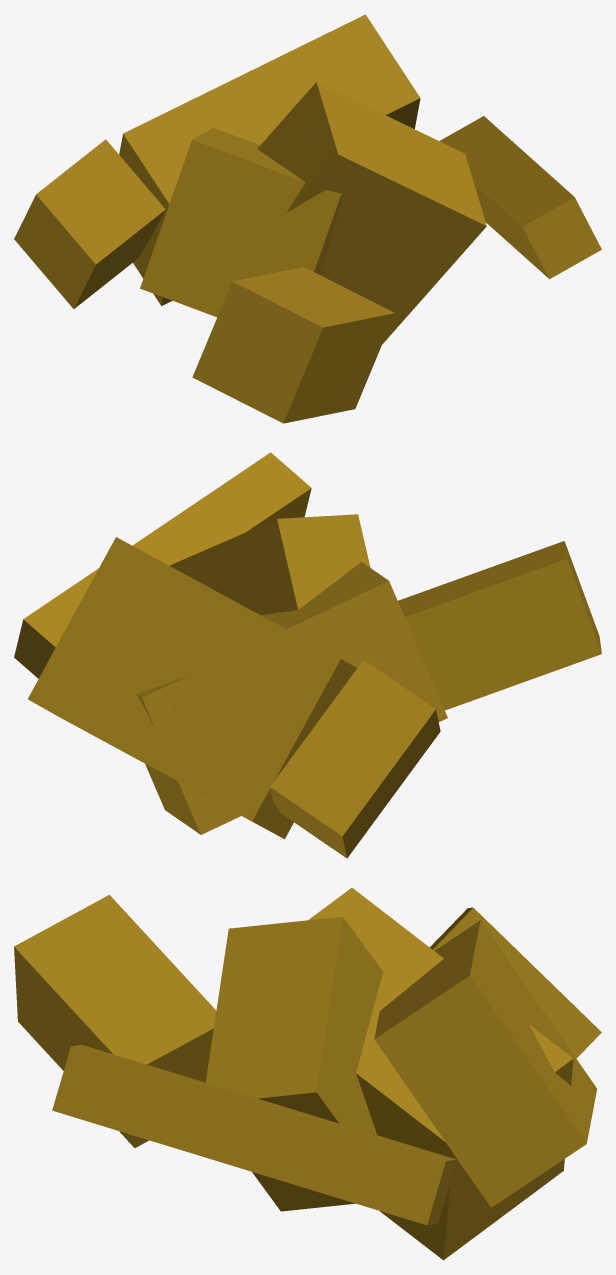
Rendered from rubble.fbx.
3 renders of one model, top to bottom at view 1: azimuth 30°, elevation 25°; view 2: azimuth 150°, elevation 25°; view 3: azimuth 270°, elevation 25°, orthographic. The views are drawn at different scales.
Visible parts, largest first — view 1: Cube__1_; view 2: Cube__1_; view 3: Cube__1_.
Boxes of the visible parts, x1,y1,x2,y2 form: Cube__1_: (14,14,601,423); Cube__1_: (14,452,601,858); Cube__1_: (14,888,601,1260).
Size of the model in its own units: 106 by 62.11 by 108.
